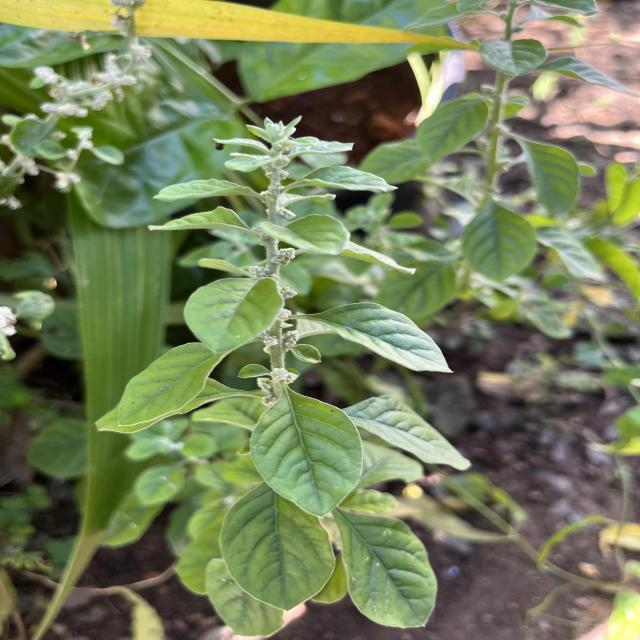Aerva lanata: (245, 385, 368, 520), (216, 482, 339, 614), (333, 505, 442, 632), (302, 299, 459, 378)
